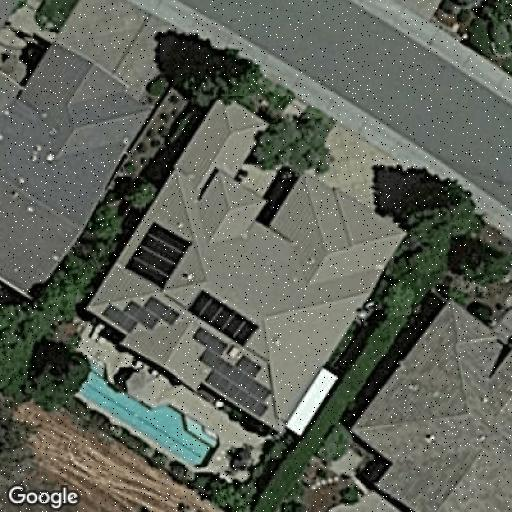solar-panel: (190, 324, 272, 418), (122, 217, 198, 291), (185, 288, 262, 348), (100, 294, 181, 336)
